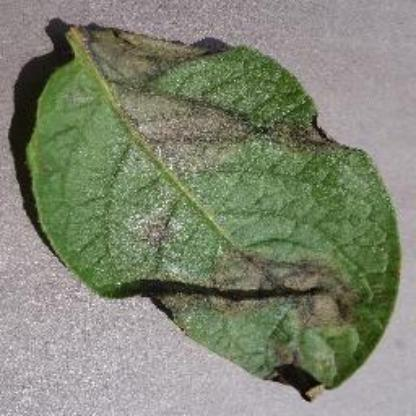Late-Blight: (13, 11, 408, 402)
